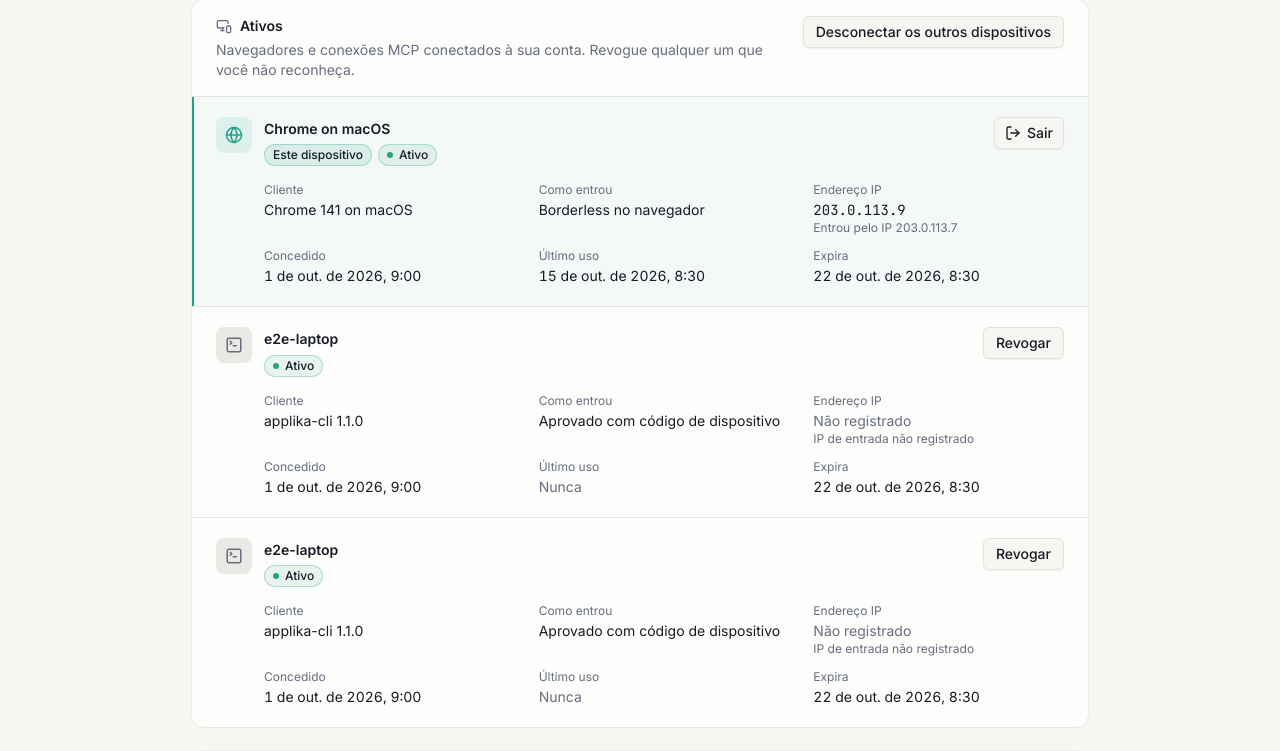
Scenario: Devices tab in Portuguese › counts the other devices in Portuguese
Step 1. Click the button "Desconectar os outros dispositivos" → coordinates (933, 32), box [803, 16, 1064, 48]
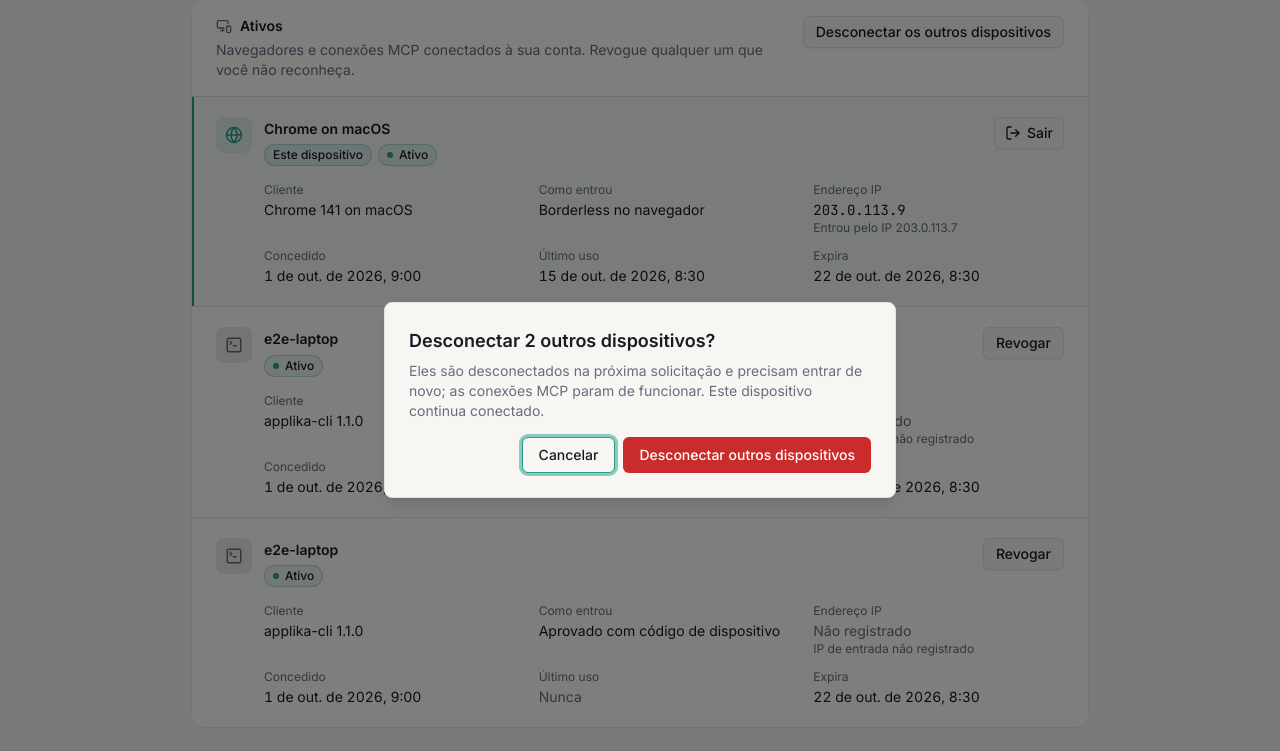
Now the heading "Desconectar 2 outros dispositivos?" is shown, box [409, 327, 715, 355]
